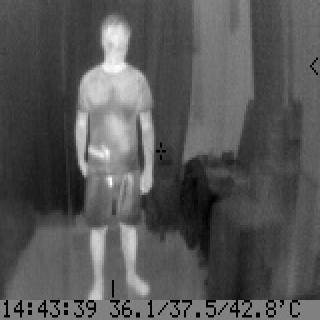Gun: (86, 142, 116, 190)
